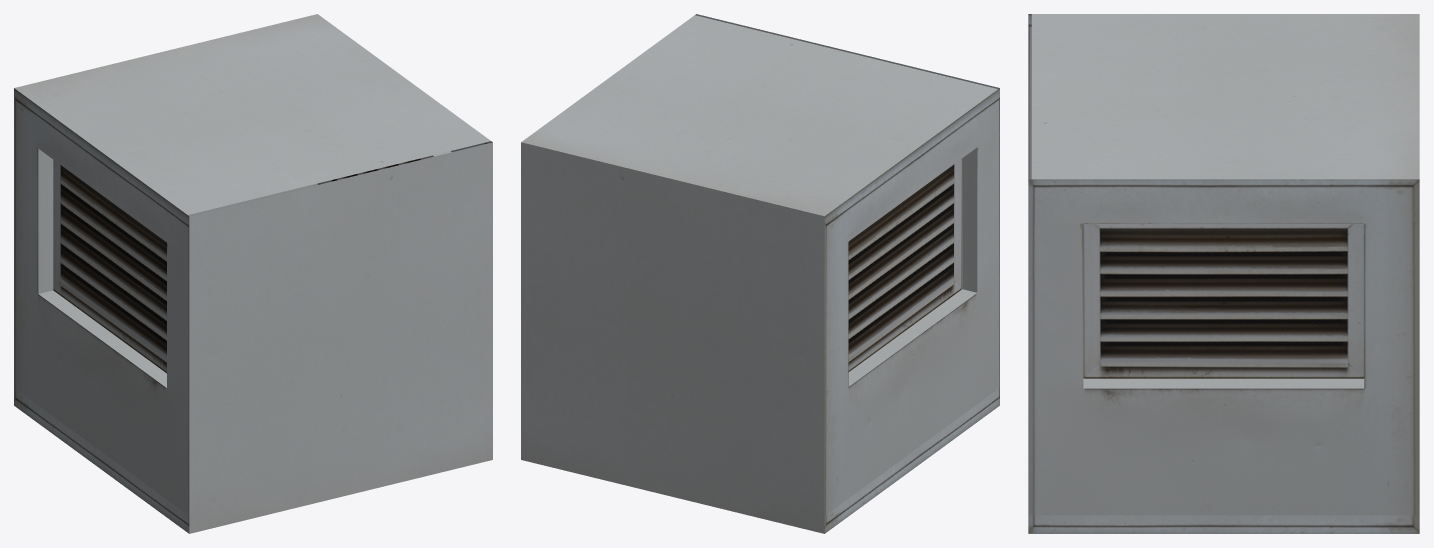
File: Roof_S01.fbx
3 views of the same model, side by side, from view 1: azimuth 30°, elevation 25°; view 2: azimuth 150°, elevation 25°; view 3: azimuth 270°, elevation 25° (orthographic). The views are drawn at different scales.
Parts seen in each view (by area): view 1: Cube (10); view 2: Cube (10); view 3: Cube (10).
Boxes of the visible parts, <box> form: Cube (10): <box>14,14,492,533</box>; Cube (10): <box>521,14,999,533</box>; Cube (10): <box>1028,14,1419,533</box>.
Size of the model in its own units: 162 by 161 by 162.
